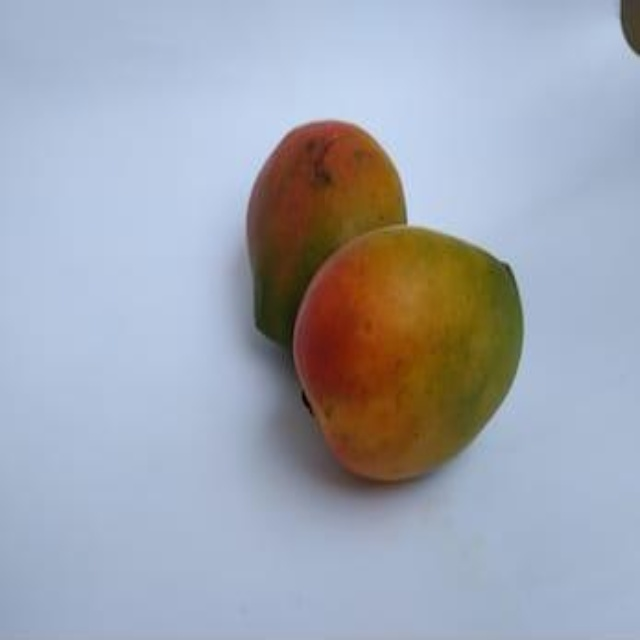mango: (303, 223, 524, 485), (247, 110, 403, 345)
